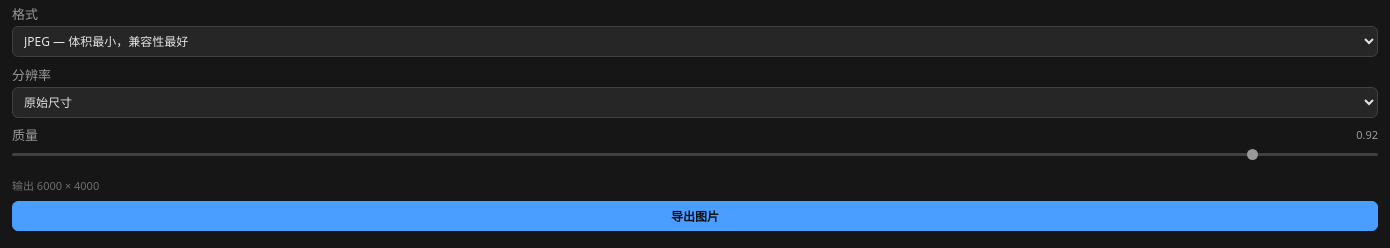
Test case: ExportPanel › hides the quality slider for PNG
Expected: the slider named "质量" is shown, x1=12 y1=146 x2=1378 y2=162
Select "PNG — 无损，适合再编辑" in the dropdown labelled "格式": (695, 42) x1=12 y1=26 x2=1378 y2=57
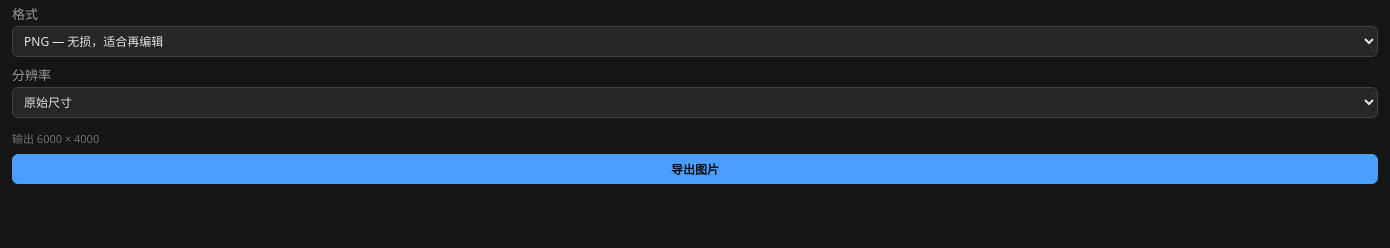
Expected: the text labelled "质量" is gone
